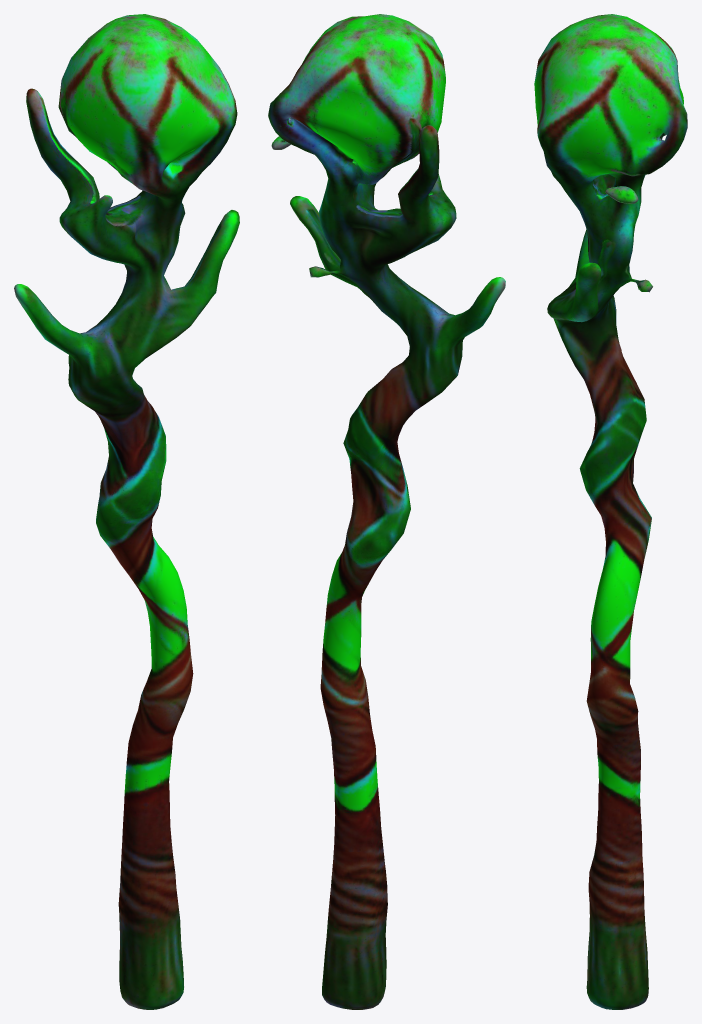
The picture shows the model from 3 angles, left to right: view 1: azimuth 30°, elevation 25°; view 2: azimuth 150°, elevation 25°; view 3: azimuth 270°, elevation 25°; orthographic projection.
Parts seen in each view (by area): view 1: mesh; view 2: mesh; view 3: mesh.
Part boxes in pixels (x1,y1,x2,y2): mesh: [14, 14, 239, 1009]; mesh: [268, 14, 505, 1009]; mesh: [534, 14, 687, 1009].
Size of the model in its own units: 0.2321 by 0.998 by 0.1424.
1 material, 1 textured.
